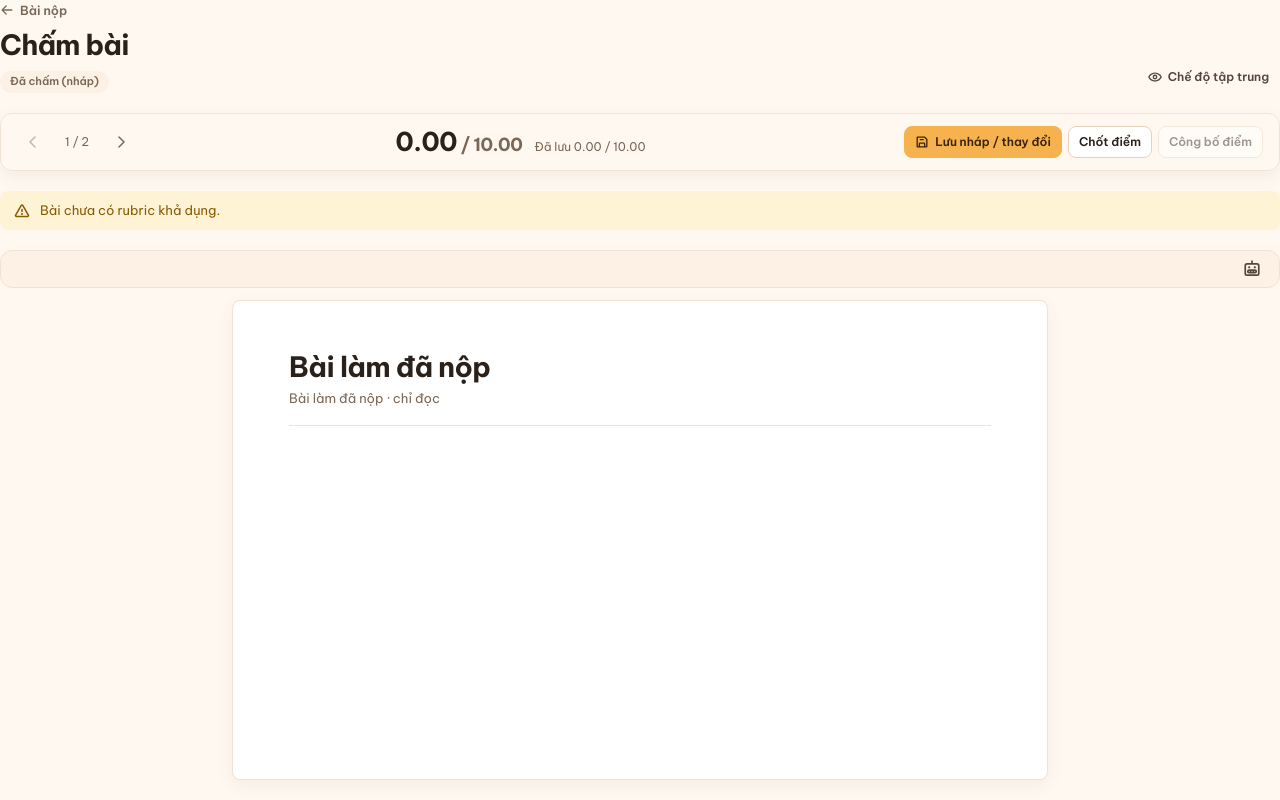
recovers the actual task error when an older backend only returns AI task failed
The width and height of the screenshot is (1280, 800).
What coordinates should you click on to do the following:
click the button named "Chấm bằng AI"
I would click on:
 (1252, 269)
Its box is [1237,255,1267,283].
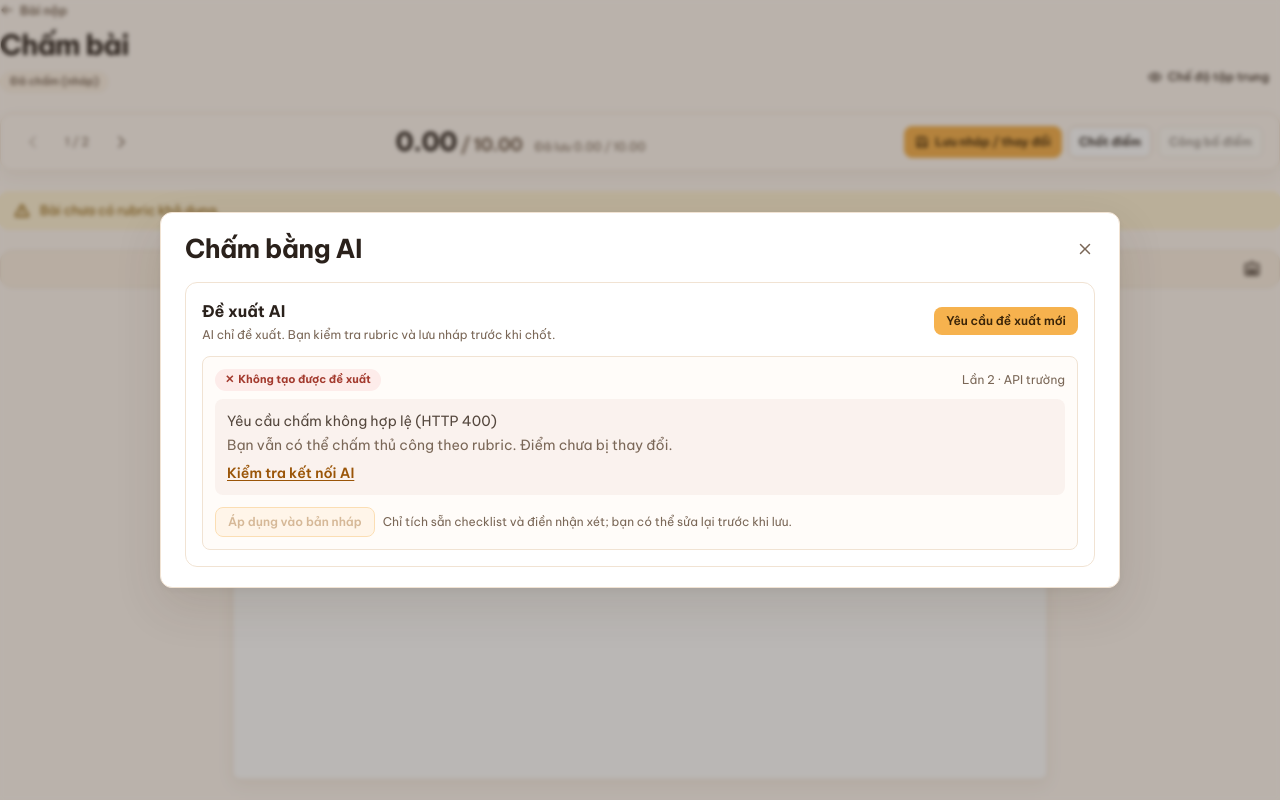
Expected: the button "Lưu nháp / thay đổi" is enabled, [904,126,1062,158]
Now the text "Yêu cầu chấm không hợp lệ (HTTP 400)" is shown, box [227,412,497,430]
